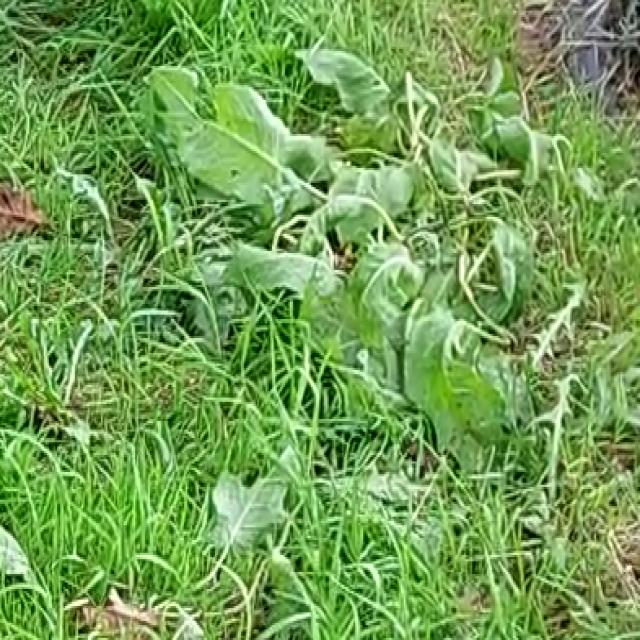organic waste: (298, 75, 560, 440), (154, 21, 452, 302)
